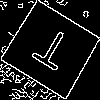T: (26, 25, 75, 80)
